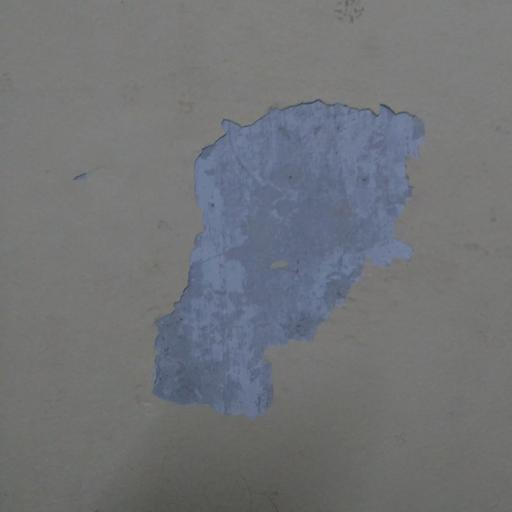peeling: (143, 88, 438, 416)
